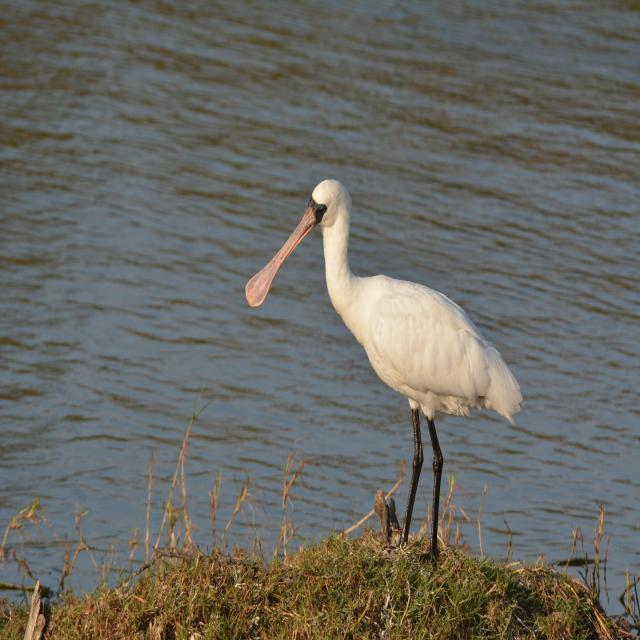Black-faced spoonbill: (246, 180, 522, 558)
